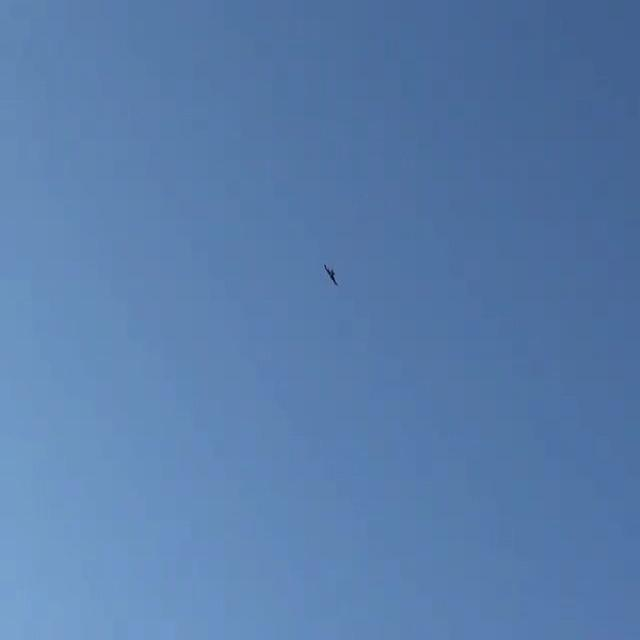bird: (320, 258, 342, 288)
